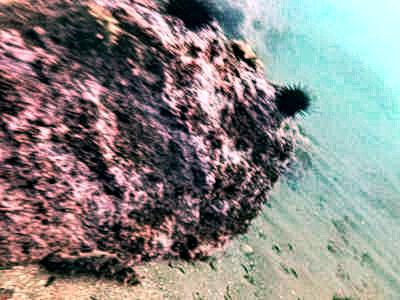urchin: (273, 82, 310, 120), (174, 3, 210, 30)
